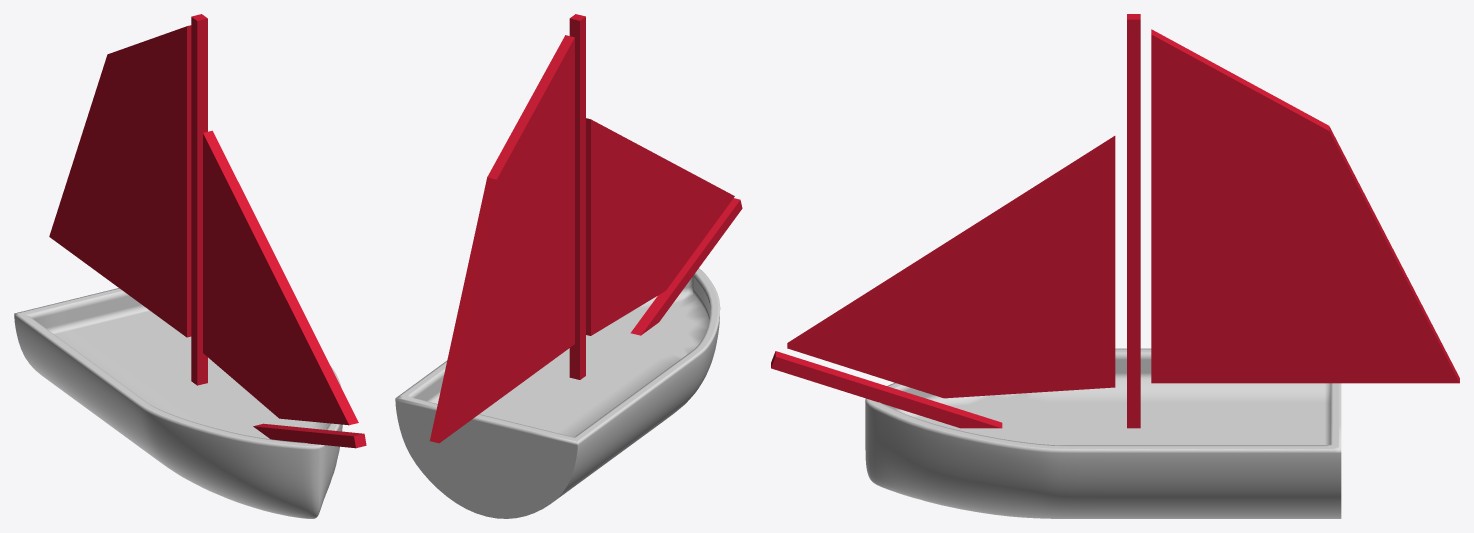
File: boat_p2.glb
3 renders of one model, left to right at view 1: azimuth 30°, elevation 25°; view 2: azimuth 150°, elevation 25°; view 3: azimuth 270°, elevation 25°, orthographic. The views are drawn at different scales.
Visible parts, largest first — view 1: rigging, hull; view 2: rigging, hull; view 3: rigging, hull.
Boxes of the visible parts, <box> form: rigging: <box>49,14,366,448</box>; hull: <box>14,288,342,518</box>; rigging: <box>430,14,742,443</box>; hull: <box>395,268,720,518</box>; rigging: <box>771,14,1459,428</box>; hull: <box>865,348,1341,518</box>.
Size of the model in its own units: 2.97 by 6.73 by 8.55.
